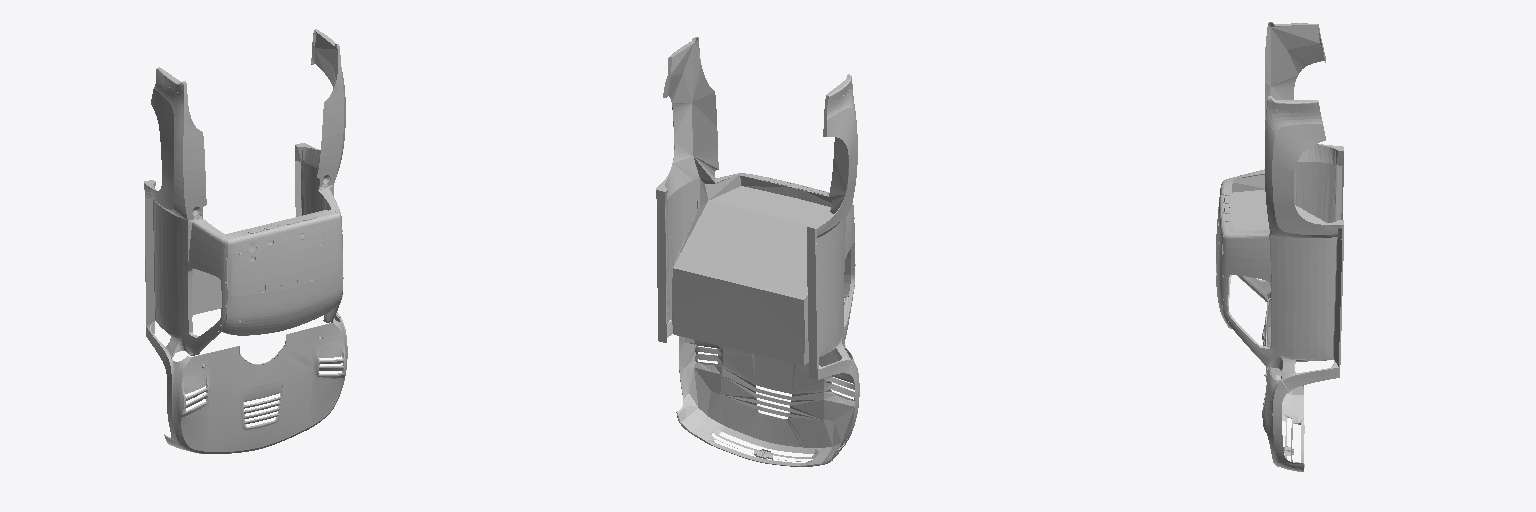
File: truck_modeltest.obj
The picture shows the model from 3 angles: view 1: azimuth 30°, elevation 25°; view 2: azimuth 150°, elevation 25°; view 3: azimuth 270°, elevation 25°; orthographic projection.
Parts seen in each view (by area): view 1: obj1; view 2: obj1; view 3: obj1.
Boxes of the visible parts, x1,y1,x2,y2 form: obj1: [144, 29, 347, 453]; obj1: [656, 37, 859, 466]; obj1: [1216, 22, 1343, 471].
Bounding box in the file's own units: 2.49 × 5.3 × 1.57.